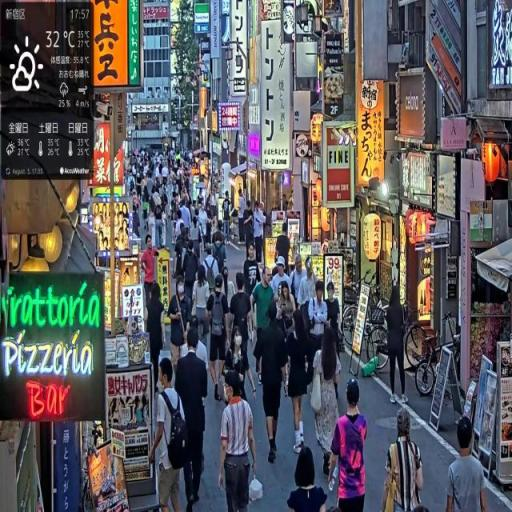person: (149, 361, 190, 512), (175, 330, 209, 512), (257, 301, 292, 466), (219, 369, 259, 512), (328, 377, 369, 512), (381, 407, 427, 512), (284, 307, 316, 453), (311, 328, 342, 475), (445, 416, 488, 512), (385, 284, 411, 407), (207, 272, 231, 404), (229, 274, 255, 386), (287, 448, 328, 512), (253, 267, 276, 380), (223, 327, 254, 406), (169, 277, 191, 385), (146, 283, 167, 396), (192, 264, 212, 347), (183, 238, 201, 327), (253, 201, 267, 273), (152, 188, 166, 250)
